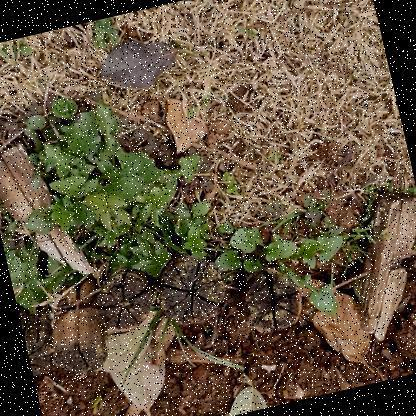Weeds: (0, 42, 360, 384), (186, 407, 226, 415)
